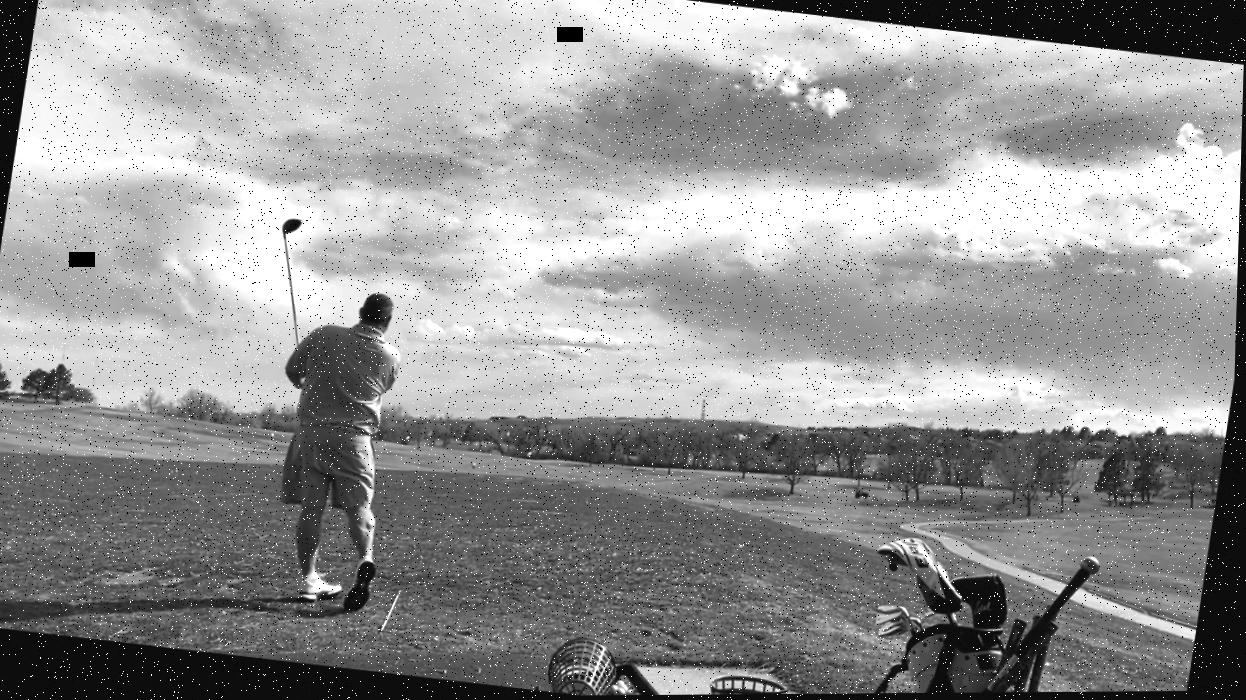ClubHead: (271, 210, 307, 248)
